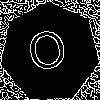O: (24, 27, 72, 82)
